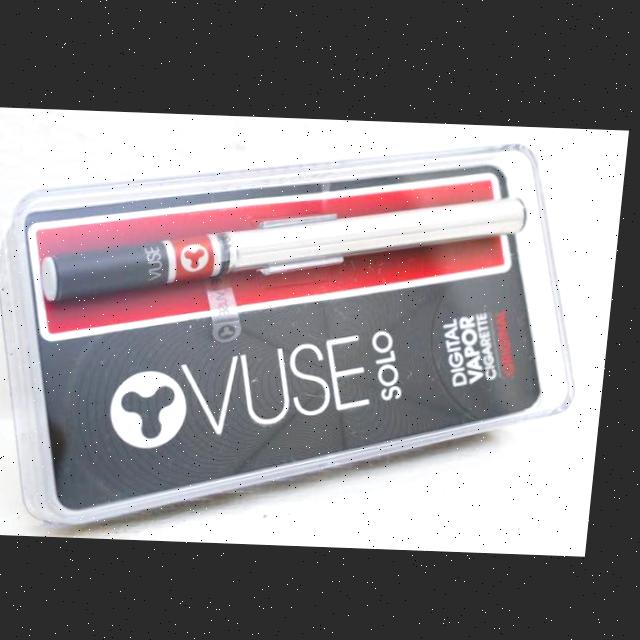vape: (46, 194, 531, 303)
